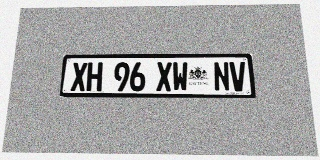6: (129, 62, 145, 91)
9: (114, 62, 130, 91)
H: (86, 62, 103, 91)
N: (213, 62, 230, 91)
V: (229, 62, 247, 91)
W: (172, 62, 188, 91)
X: (70, 62, 87, 91), (156, 62, 172, 91)
